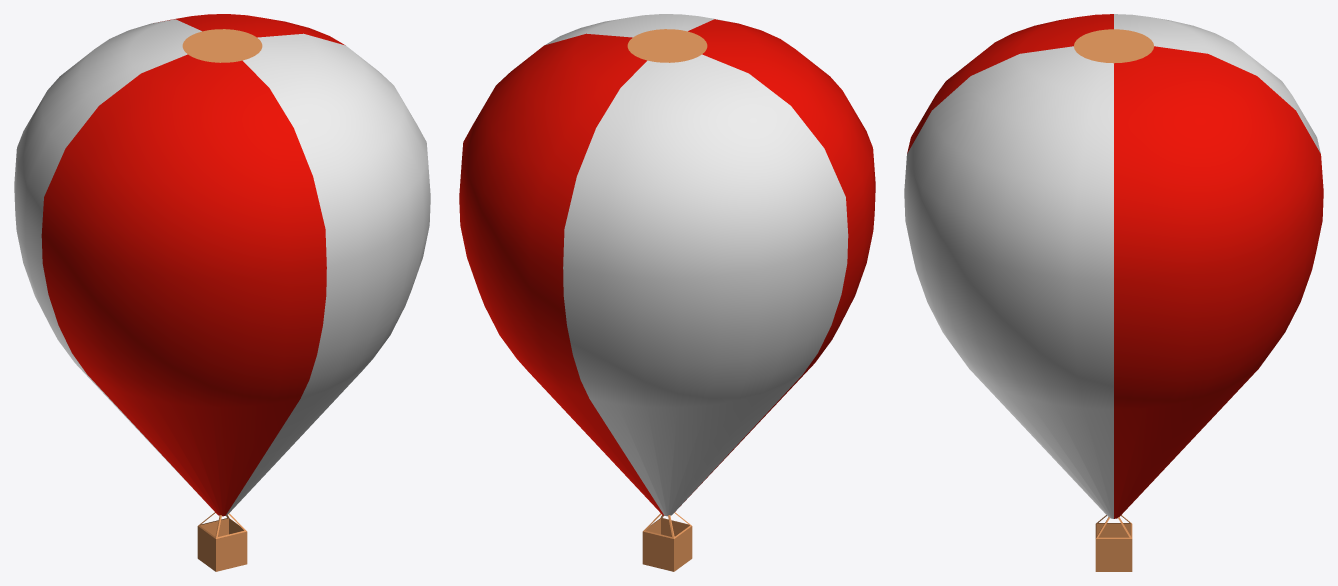
File: balloon.glb
3 renders of one model, left to right at view 1: azimuth 30°, elevation 25°; view 2: azimuth 150°, elevation 25°; view 3: azimuth 270°, elevation 25°, orthographic.
Parts seen in each view (by area): view 1: Cube; view 2: Cube; view 3: Cube.
Part boxes in pixels (x1,y1,x2,y2): Cube: (14, 14, 430, 571); Cube: (459, 14, 875, 571); Cube: (904, 14, 1323, 571).
Size of the model in its own units: 23.05 by 31.41 by 23.05.
